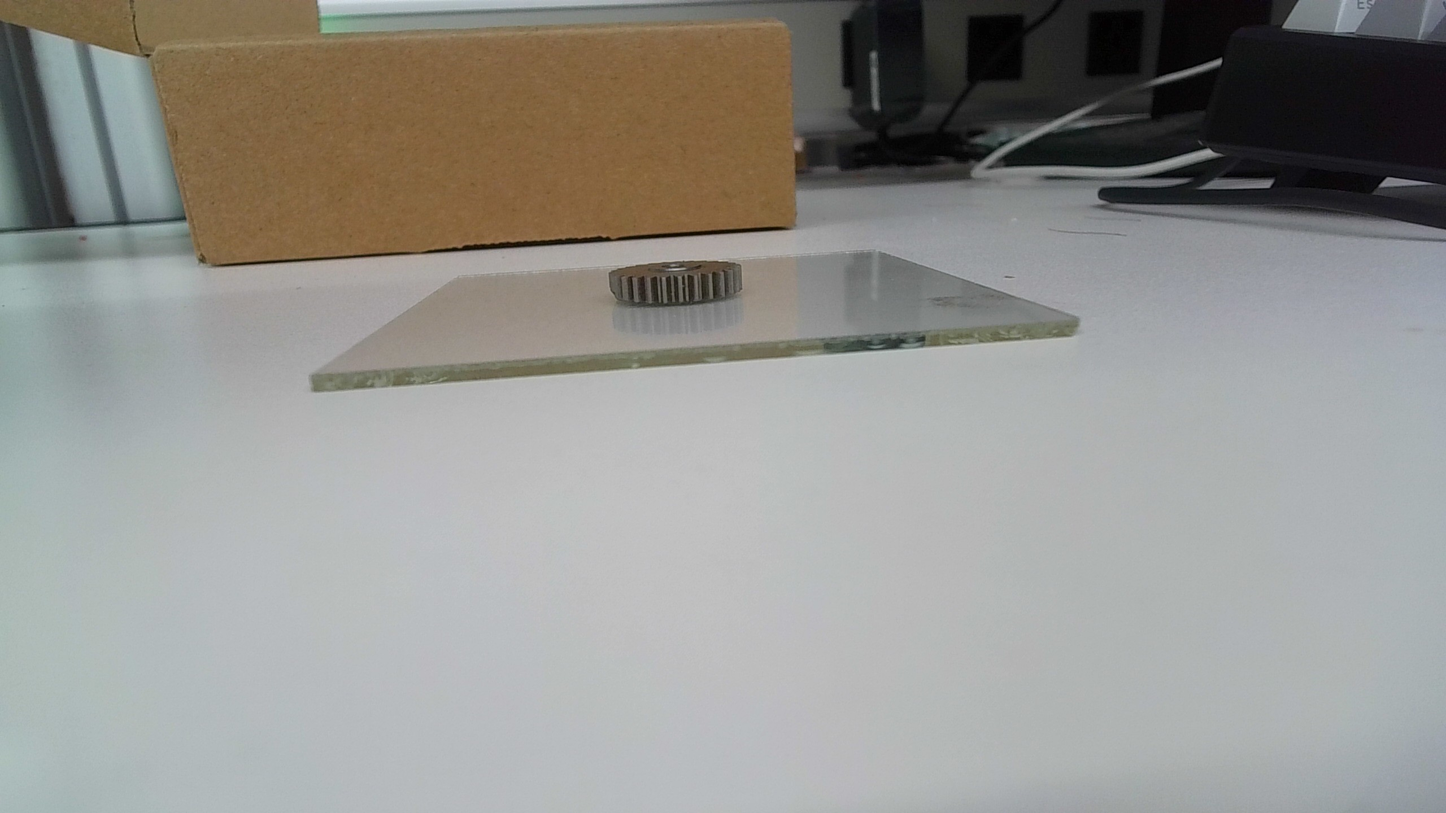gear: (608, 257, 747, 310)
